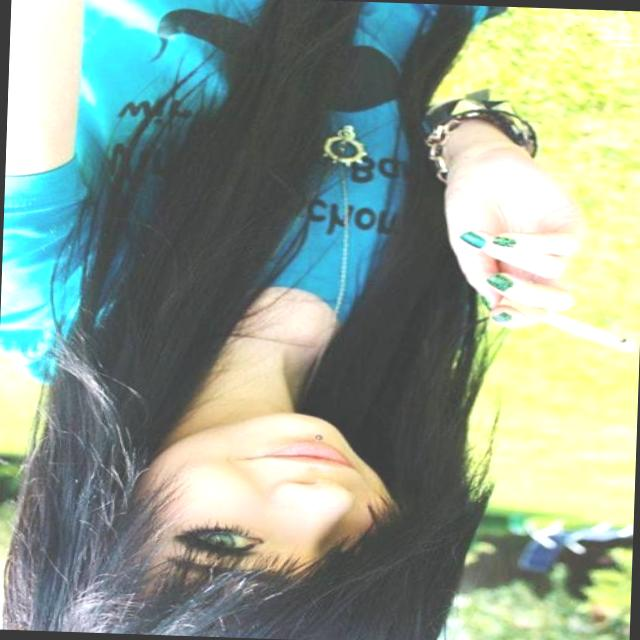smoke: (467, 293, 640, 360)
